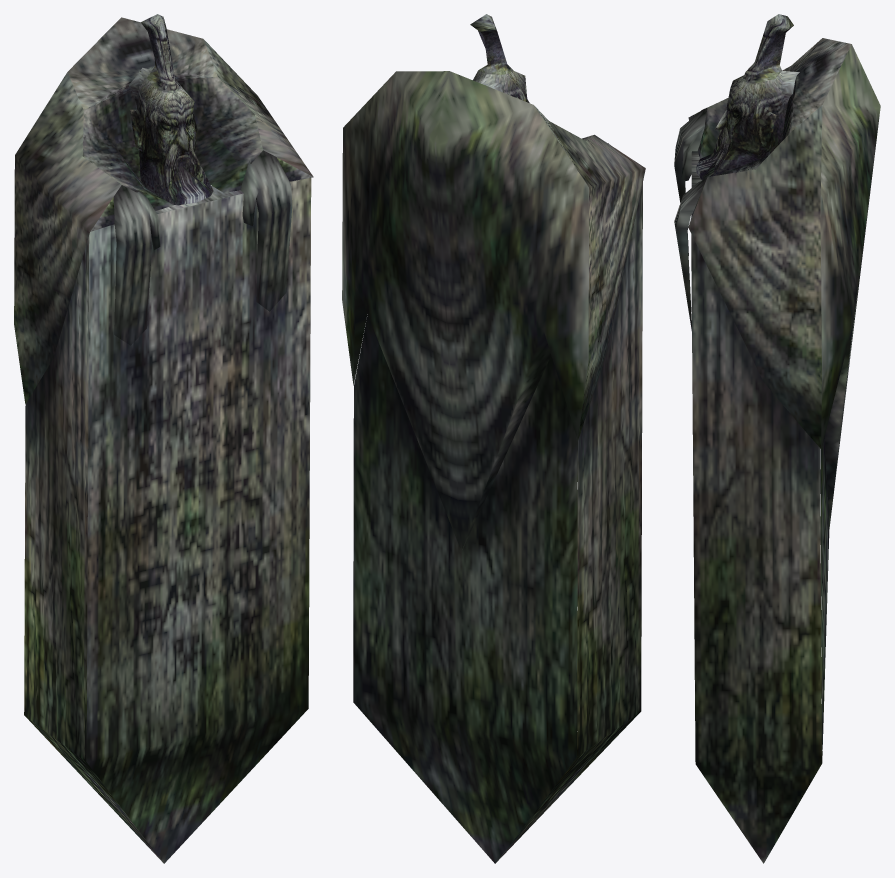
The model's file is cj_field_tomb1.glb.
3 renders of one model, left to right at view 1: azimuth 30°, elevation 25°; view 2: azimuth 150°, elevation 25°; view 3: azimuth 270°, elevation 25°, orthographic.
Parts seen in each view (by area): view 1: CJ_field_tomb1, CJ_field_tomb1_h; view 2: CJ_field_tomb1, CJ_field_tomb1_h; view 3: CJ_field_tomb1, CJ_field_tomb1_h.
Part boxes in pixels (x1,y1,x2,y2): CJ_field_tomb1: [14, 17, 313, 863]; CJ_field_tomb1_h: [128, 14, 213, 205]; CJ_field_tomb1: [342, 71, 645, 863]; CJ_field_tomb1_h: [470, 14, 529, 102]; CJ_field_tomb1: [674, 38, 880, 863]; CJ_field_tomb1_h: [696, 14, 799, 180].
Size of the model in its own units: 1.42 by 4.7 by 1.03.
2 materials, 2 textured.
